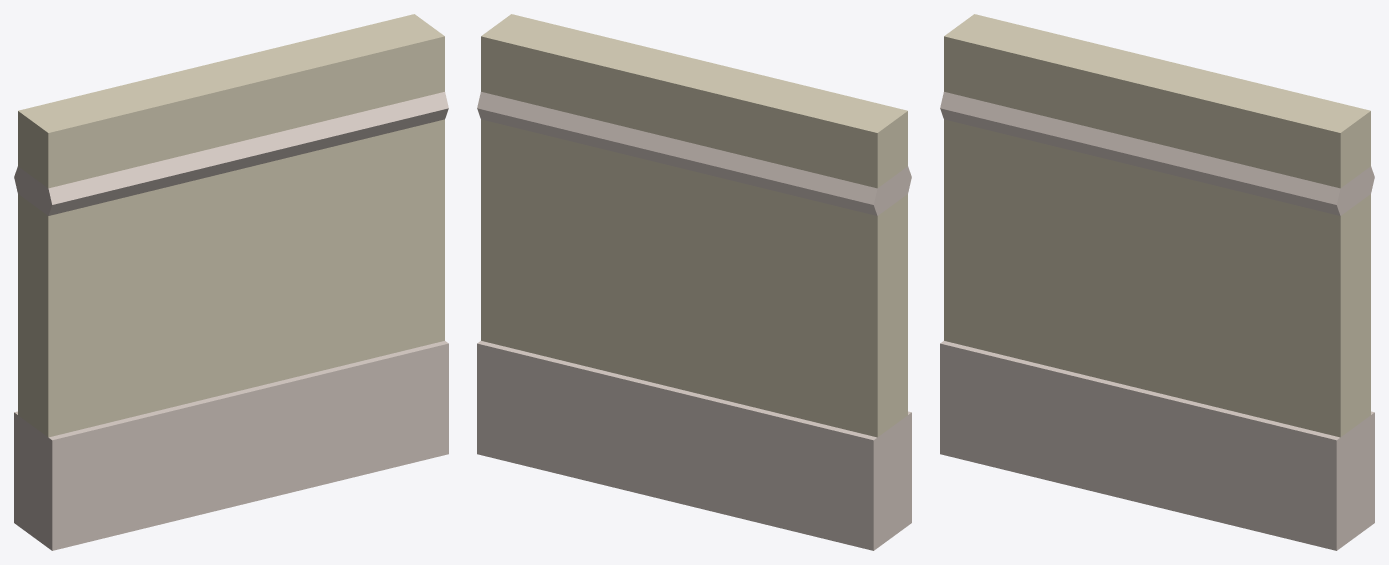
The model's file is roman_wall_2.fbx.
The picture shows the model from 3 angles, left to right: view 1: azimuth 30°, elevation 25°; view 2: azimuth 150°, elevation 25°; view 3: azimuth 330°, elevation 25°; orthographic projection.
Parts seen in each view (by area): view 1: Cube.006; view 2: Cube.006; view 3: Cube.006.
Boxes of the visible parts, x1=… form: Cube.006: x1=14, y1=14, x2=448, y2=550; Cube.006: x1=477, y1=14, x2=911, y2=550; Cube.006: x1=940, y1=14, x2=1374, y2=550.
Bounding box in the file's own units: 3 × 3 × 0.5.
